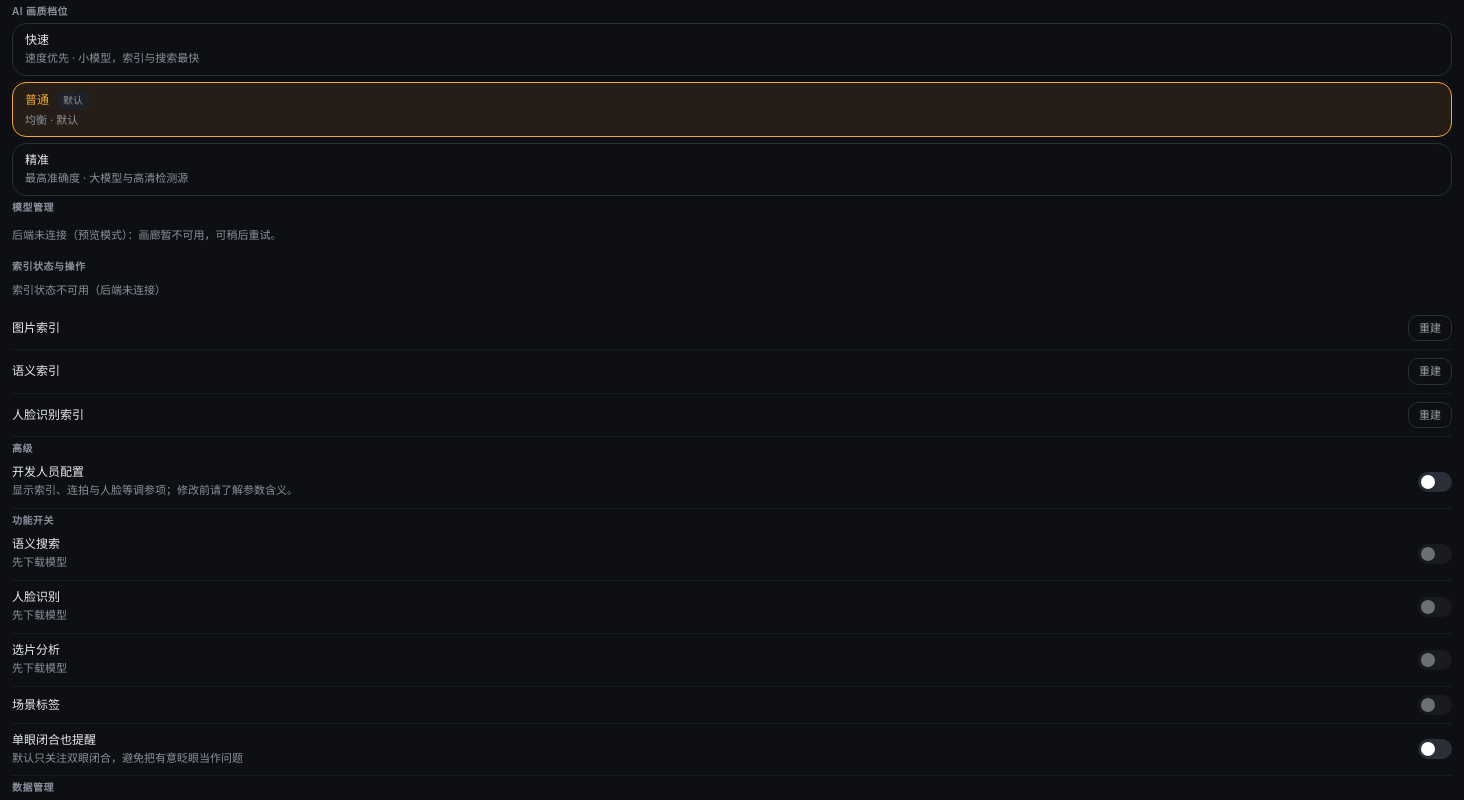
语义阈值三态（auto / 自定义） › 持久化值往返：已存自定义值渲染 custom 态；已存 null 渲染 auto 态
Click the switch with test id "ai-advanced-toggle".
click(1435, 482)  # box [1418,472,1452,492]
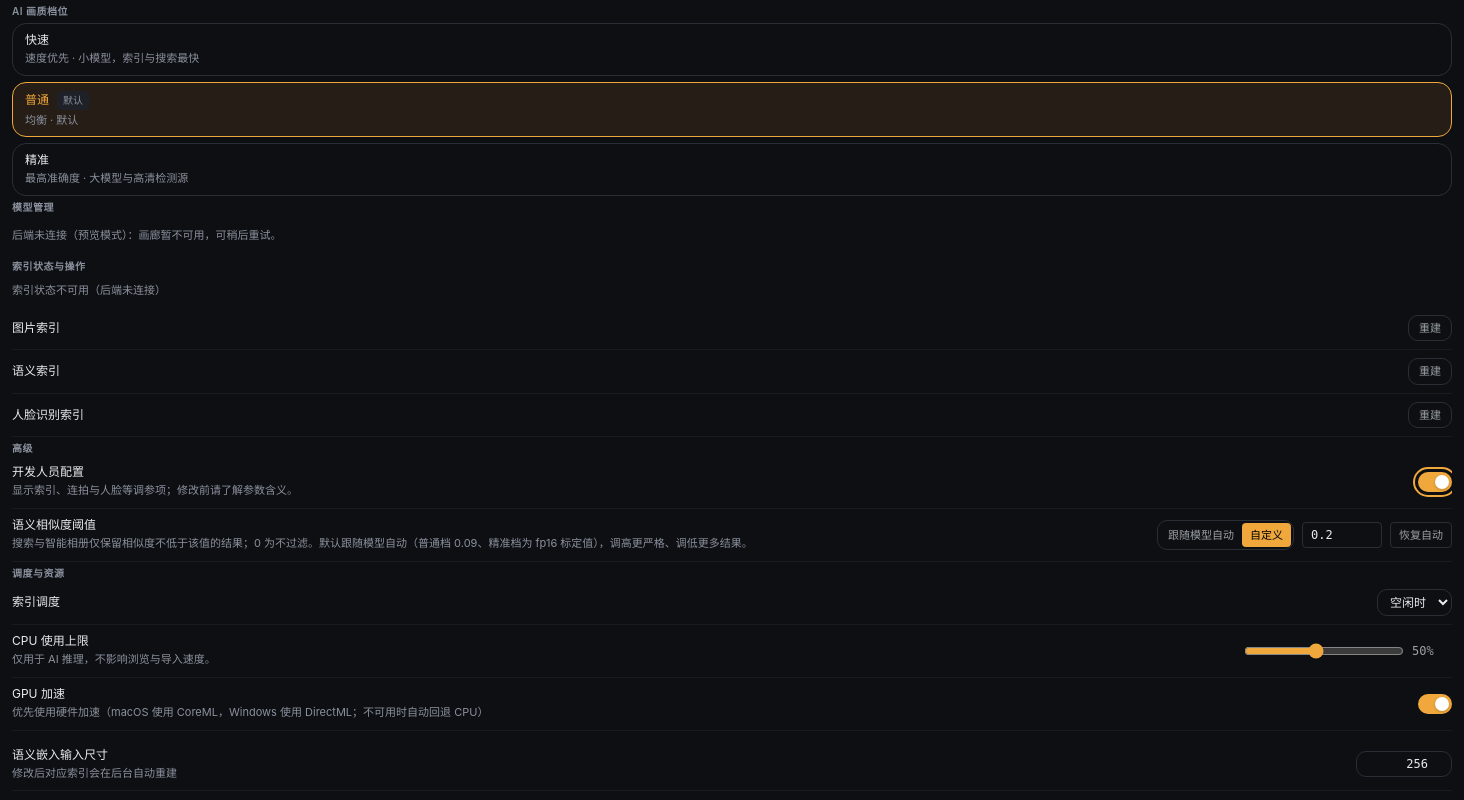
Expected: the number field with test id "ai-semantic-threshold" holds "0.2", [1302,522,1382,548]
